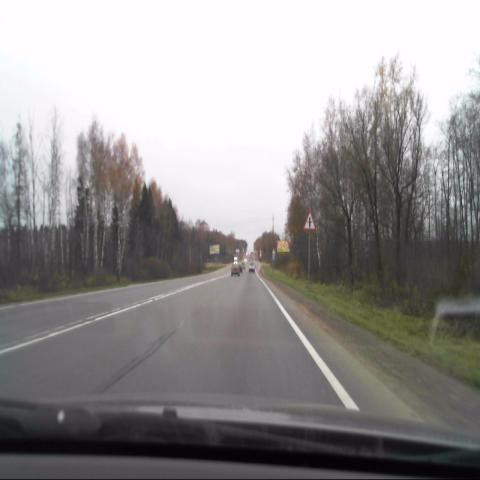2_3: (303, 210, 315, 230)
